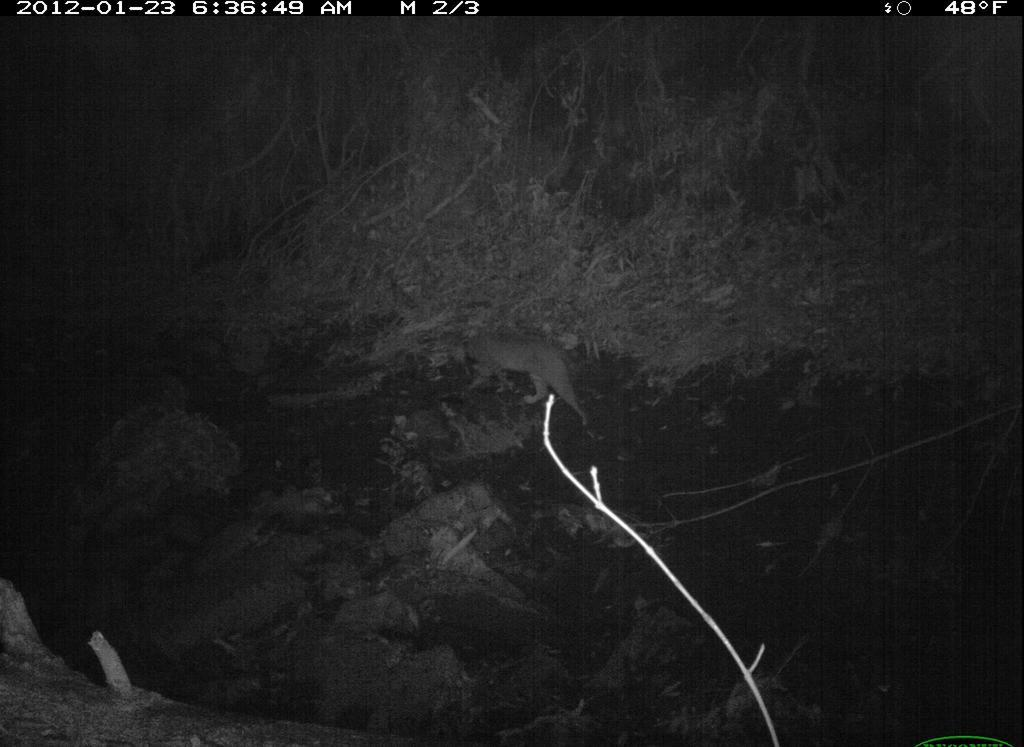bobcat: (451, 329, 597, 425)
